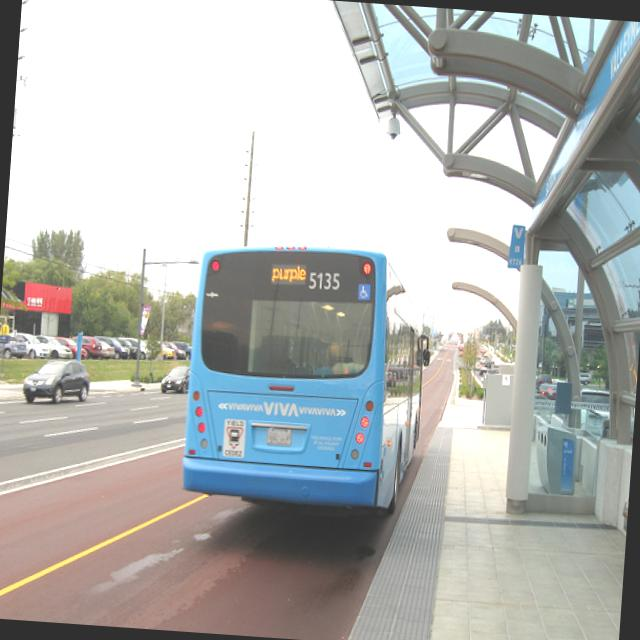Vehicle: (182, 246, 433, 524), (22, 350, 94, 408), (0, 330, 49, 361), (158, 360, 191, 396), (34, 334, 74, 358), (48, 336, 88, 360), (70, 334, 102, 360), (98, 338, 130, 361), (126, 337, 152, 360), (93, 338, 116, 359), (116, 337, 138, 357), (161, 342, 186, 358), (580, 371, 592, 386)
